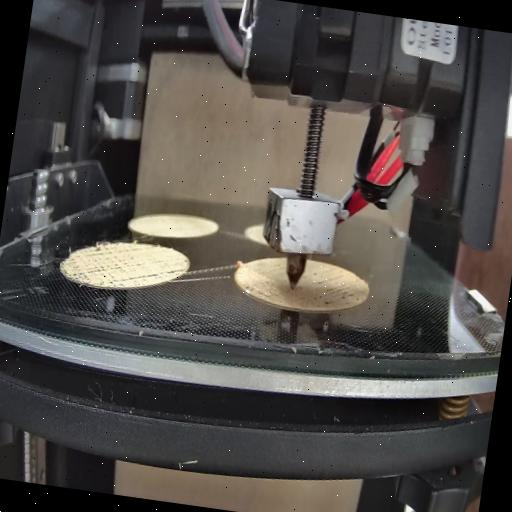under_extrusion: (62, 236, 164, 294), (308, 266, 368, 314), (244, 278, 278, 305), (165, 264, 184, 280)
